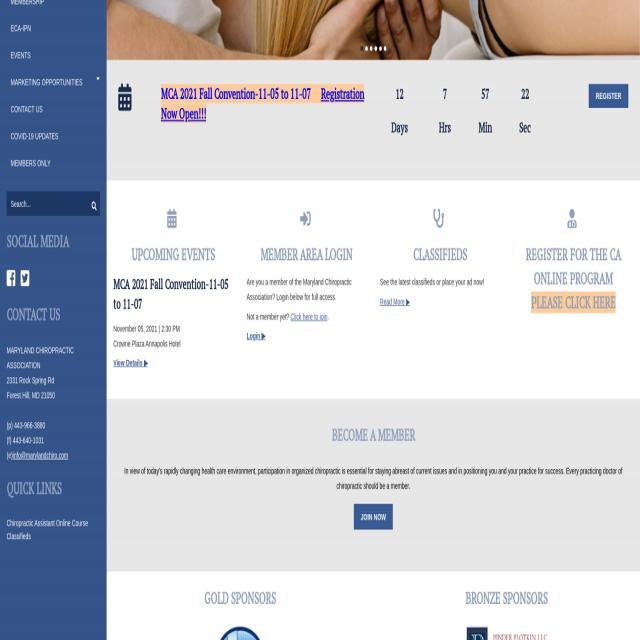button: (6, 122, 100, 150), (6, 14, 100, 42), (6, 150, 100, 177), (6, 96, 100, 122), (6, 42, 100, 68), (353, 503, 393, 529), (589, 85, 629, 109), (6, 268, 18, 288), (20, 268, 32, 288), (92, 191, 100, 213), (373, 46, 378, 52), (369, 45, 373, 52), (378, 45, 382, 52), (360, 46, 364, 52), (364, 46, 368, 52), (383, 46, 387, 52)
field: (10, 191, 82, 211)
